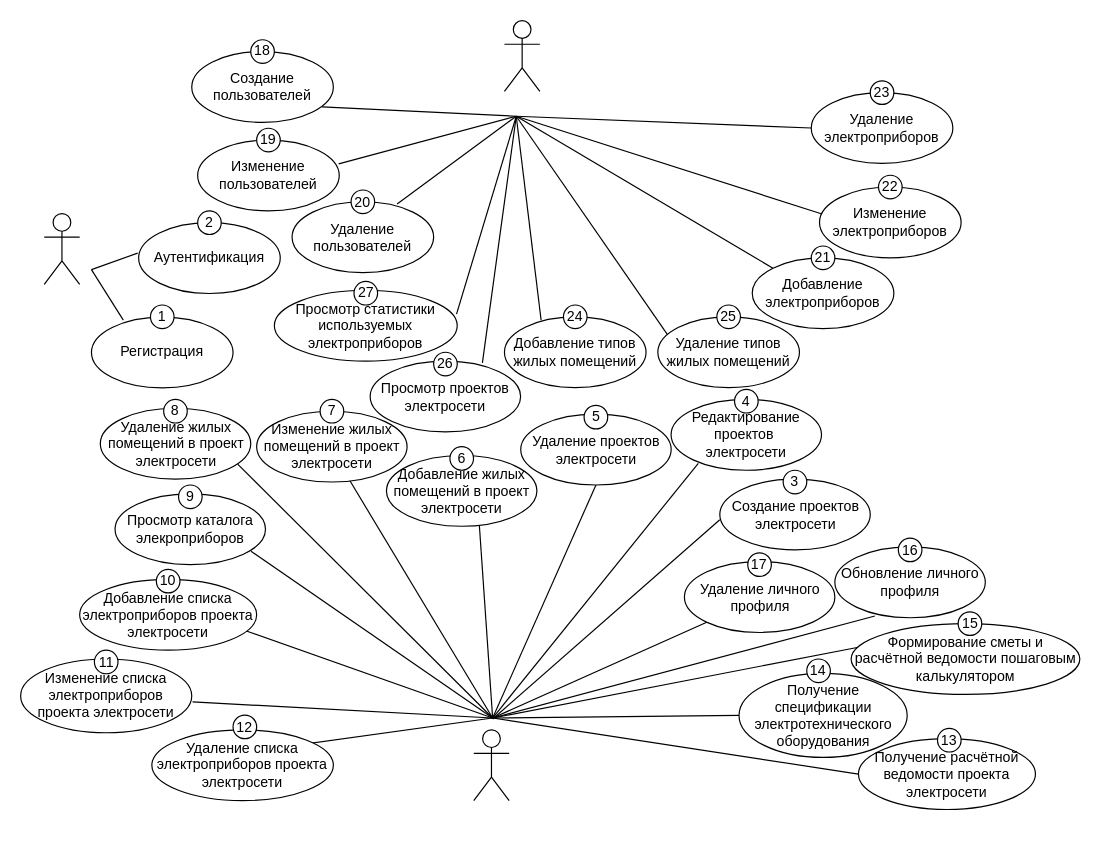
Image size: 1101x846. Some labels were removed from this diagram. The centre of each missing label's shape, as x and y in pixels:
"Администратор" belongs at [521,55].
"Гость" belongs at [61,248].
"Проектировщик" belongs at [491,765].
